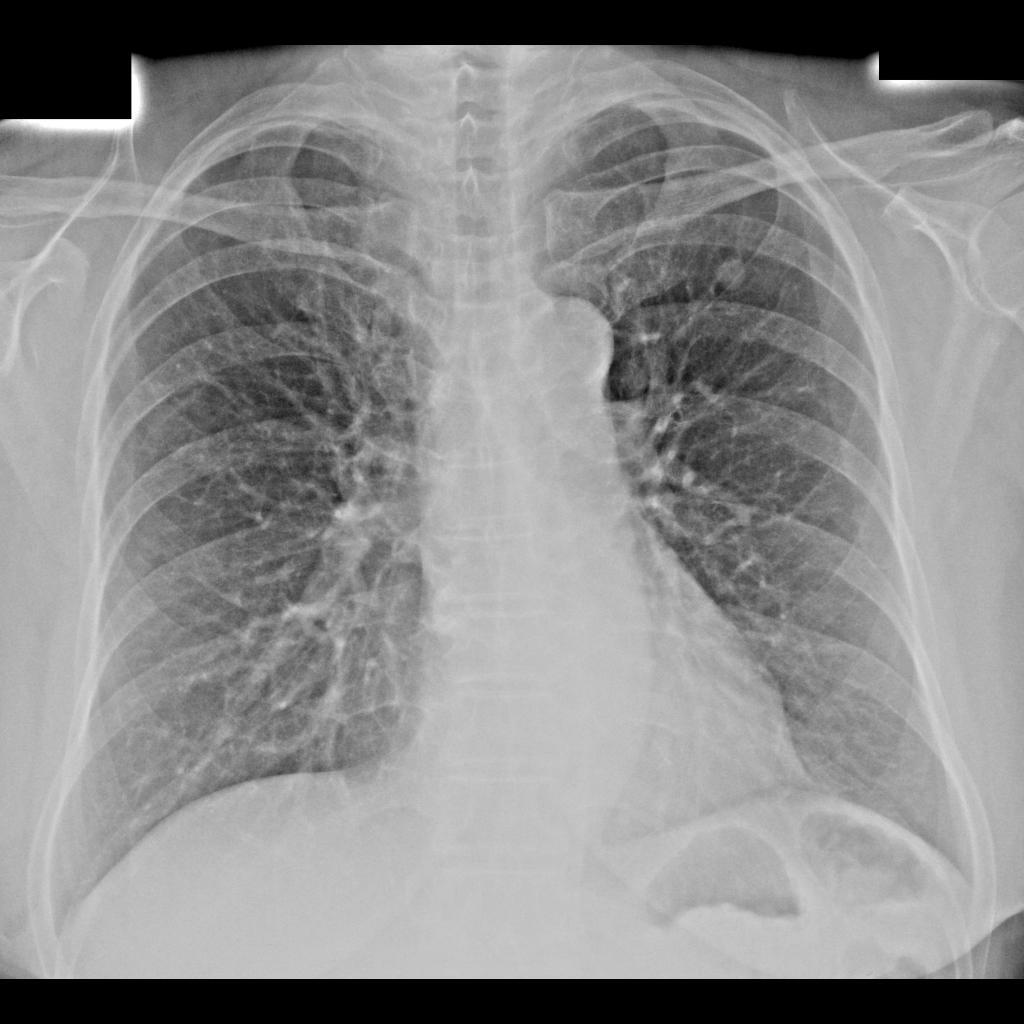Nodule: (718, 257, 747, 286)
